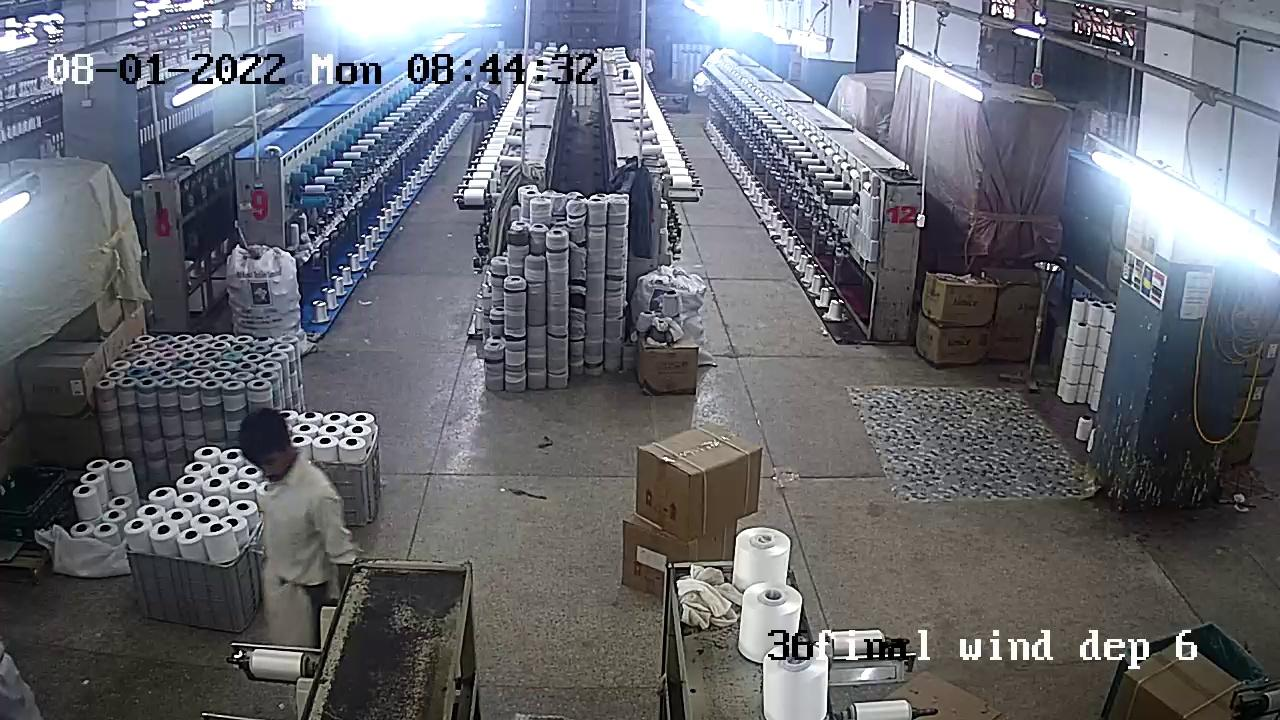person: (241, 408, 359, 607), (462, 87, 504, 147)
